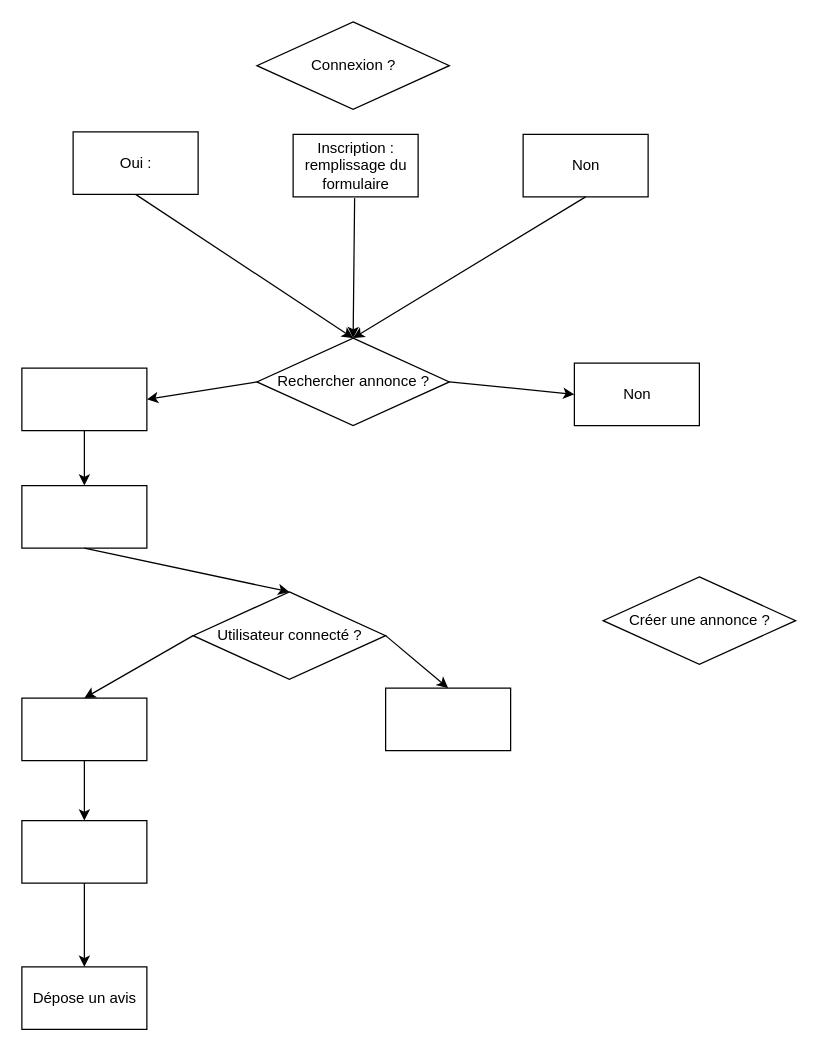
Some shapes in this 818 by 1051 pixel diagram are drawn without their labels. The shapes that lost their labels are listed below. From the top down, each one's centre as x and y in pixels, then its label:
At (x=84, y=399): "Oui :consulter la liste des annonces".
At (x=84, y=516): "Consulte le détail d'une annonce".
At (x=84, y=729): "Oui".
At (x=447, y=719): "Non : se connecter ou s'sincrire".
At (x=84, y=851): "Contacter l'annonceur".
